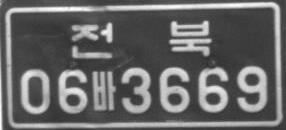0: (20, 68, 50, 114)
3: (120, 66, 152, 114)
6: (158, 65, 190, 114), (197, 65, 229, 112), (57, 68, 88, 113)
9: (235, 65, 268, 114)
바: (91, 70, 116, 110)
전북_D: (70, 19, 212, 59)
